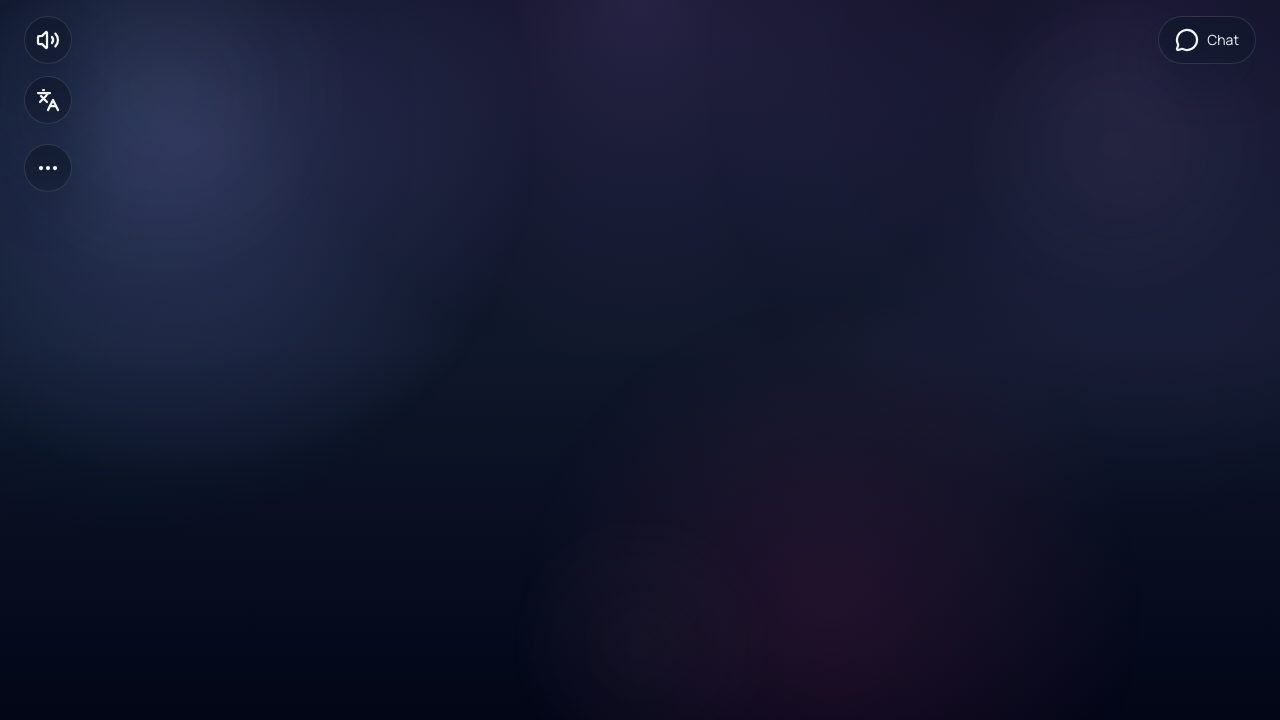
Test case: LobbyControls › opens the preferences controls from the lobby controls panel
Click the button with test id "lobby-desktop-settings-toggle".
click(48, 100)  # box [24, 76, 72, 124]
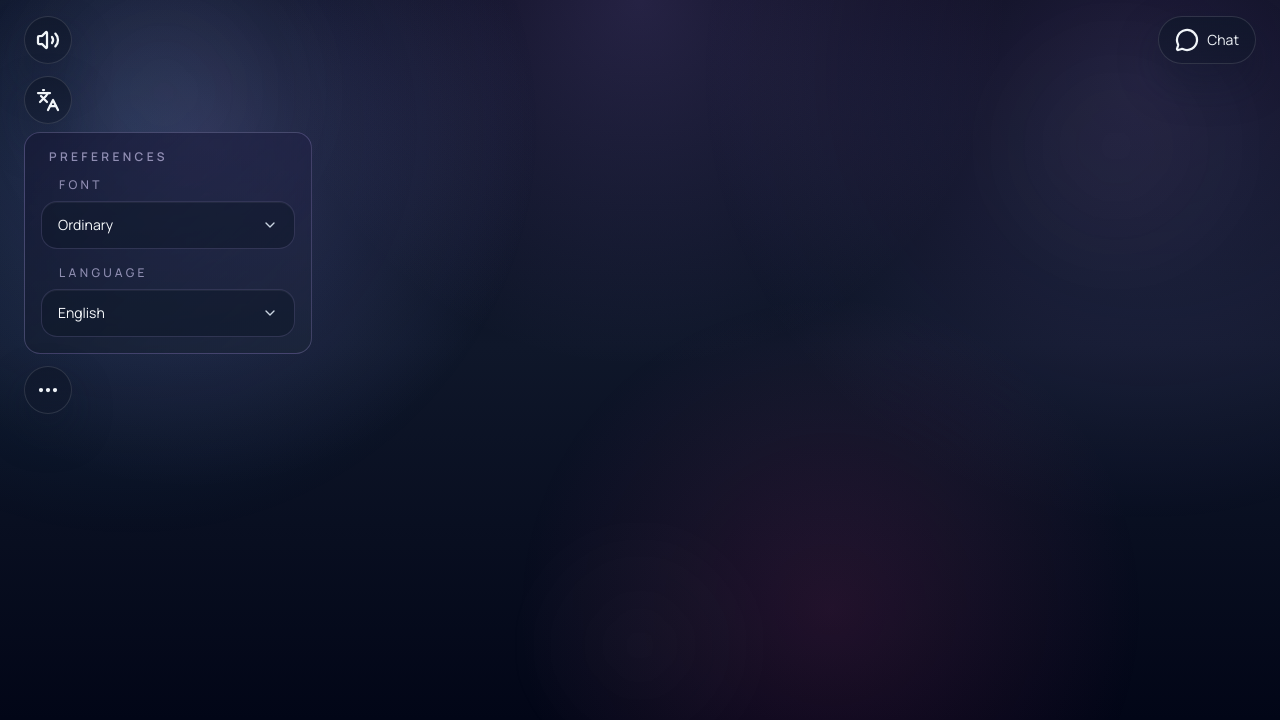
Check: the text "Font" is shown, box [59, 176, 103, 193]
Check: the text "Language" is shown, box [59, 264, 148, 281]
